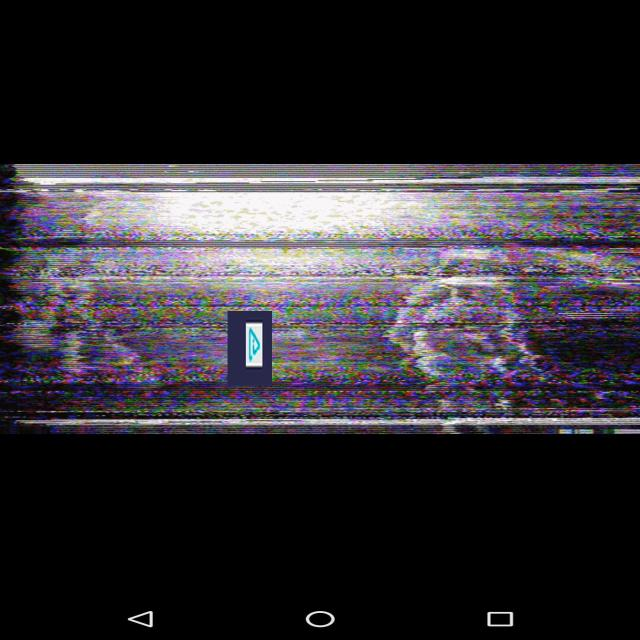sneaking: (228, 311, 272, 386)
